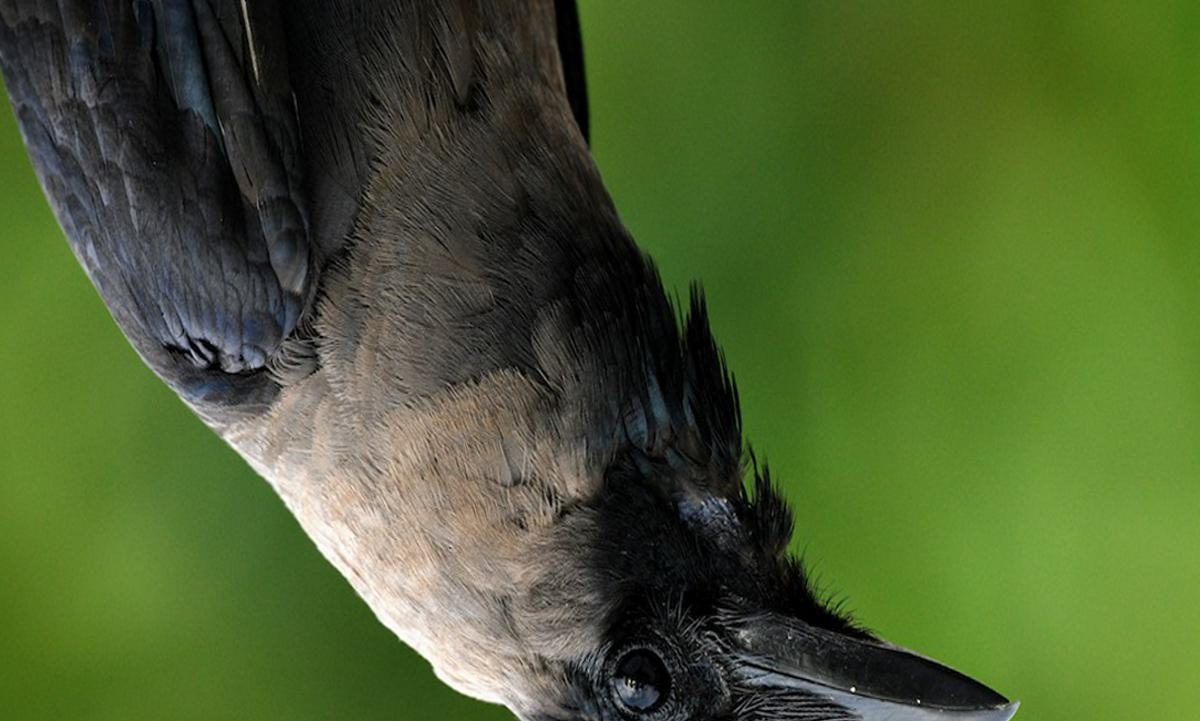crow: (5, 2, 1014, 721)
